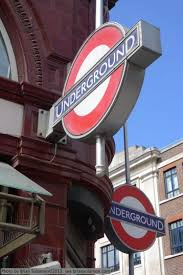London Underground: (56, 23, 142, 139), (106, 184, 165, 254)
